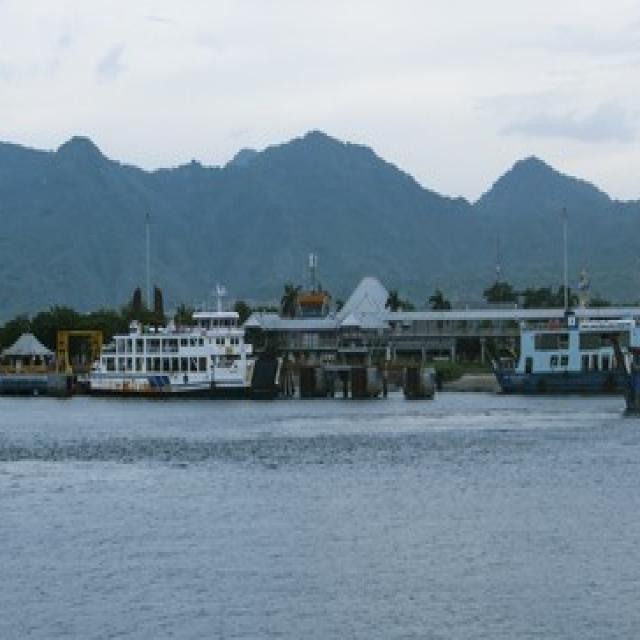passenger ship: (79, 293, 262, 425)
